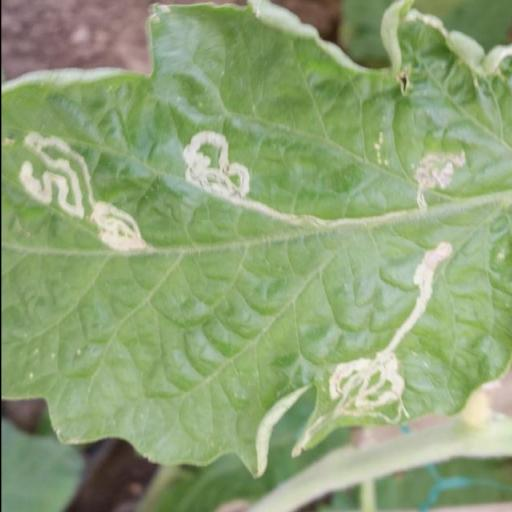Leaf Miner: (0, 0, 512, 485)
